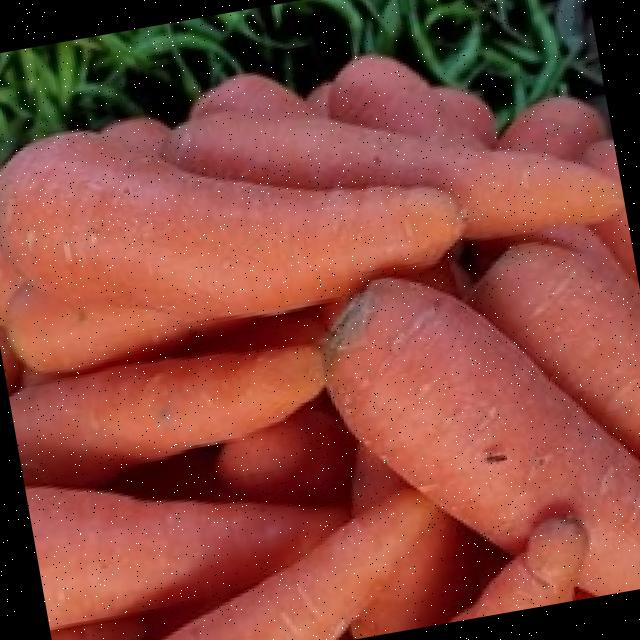carrot: (0, 56, 640, 640), (326, 280, 640, 596)
